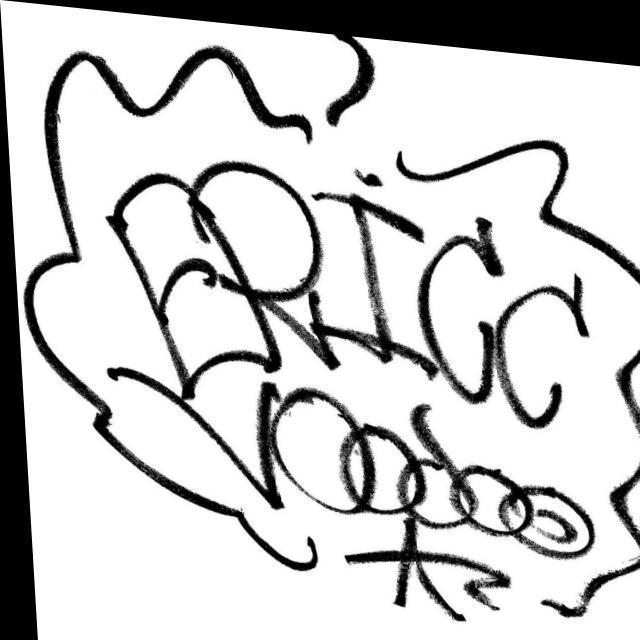nonspitting: (23, 32, 640, 627)
